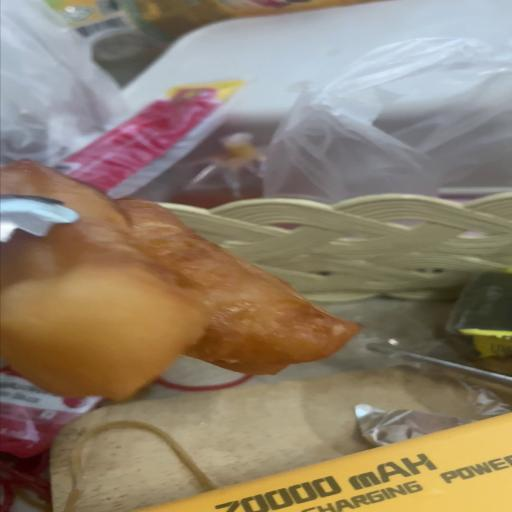street_golden_defect: (1, 164, 360, 397)
